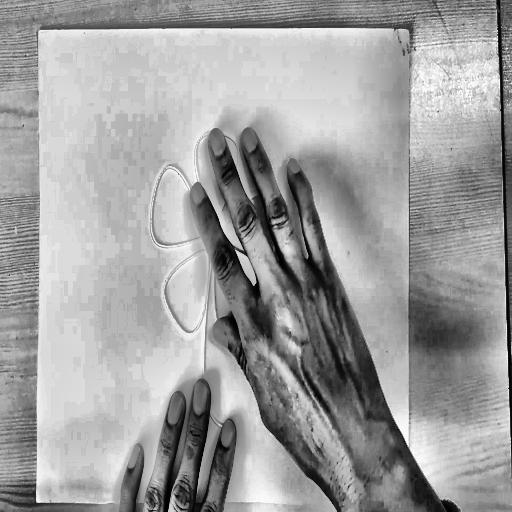bottom_left: (33, 491, 42, 508)
flower: (145, 120, 286, 448)
top_left: (33, 21, 44, 43)
top_right: (404, 21, 415, 38)
